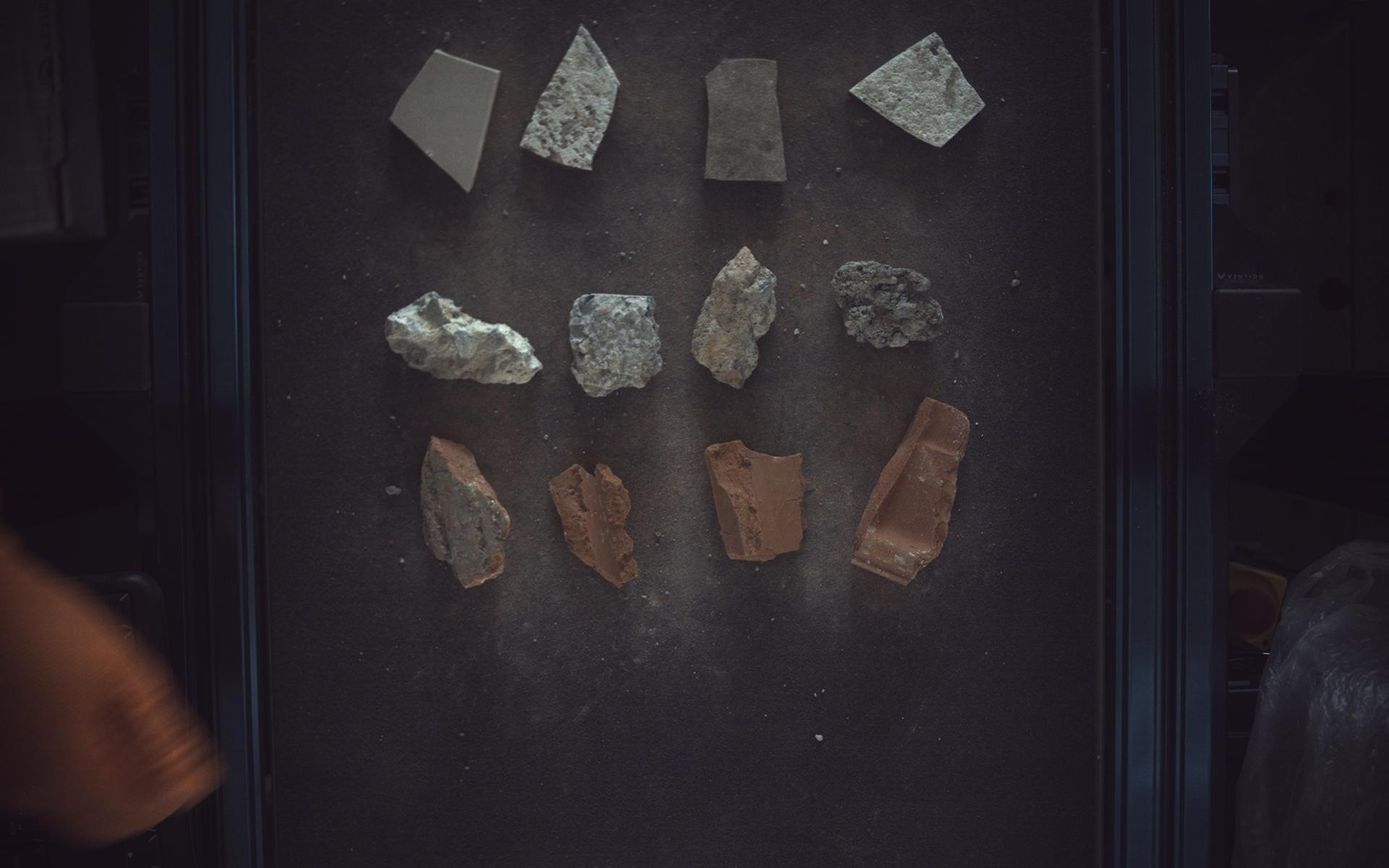brick: (853, 398, 972, 587), (420, 436, 511, 589), (705, 441, 807, 562), (549, 464, 639, 588)
concrete: (385, 292, 543, 384), (692, 246, 778, 388), (833, 260, 945, 348), (569, 293, 663, 397)
tile: (390, 48, 501, 192), (851, 31, 987, 146), (520, 23, 621, 169), (706, 57, 788, 181)
